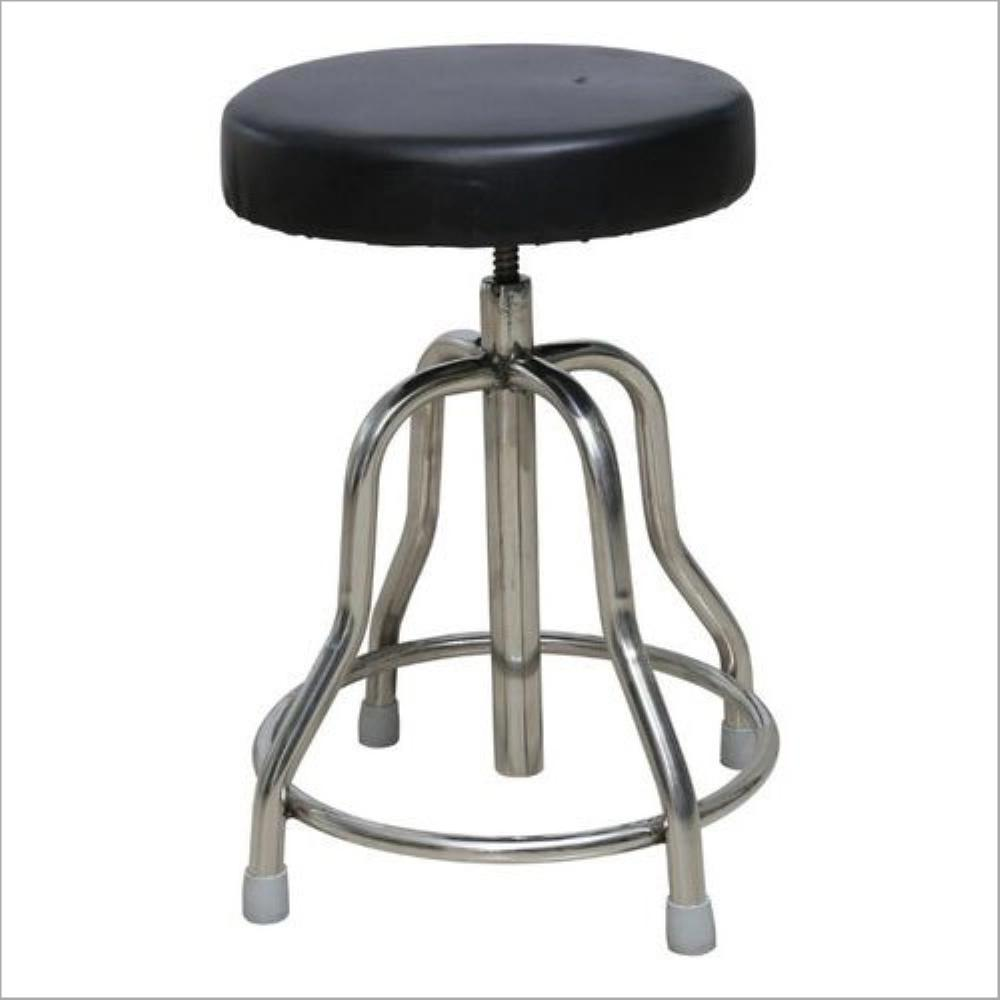stool: (219, 41, 781, 955)
